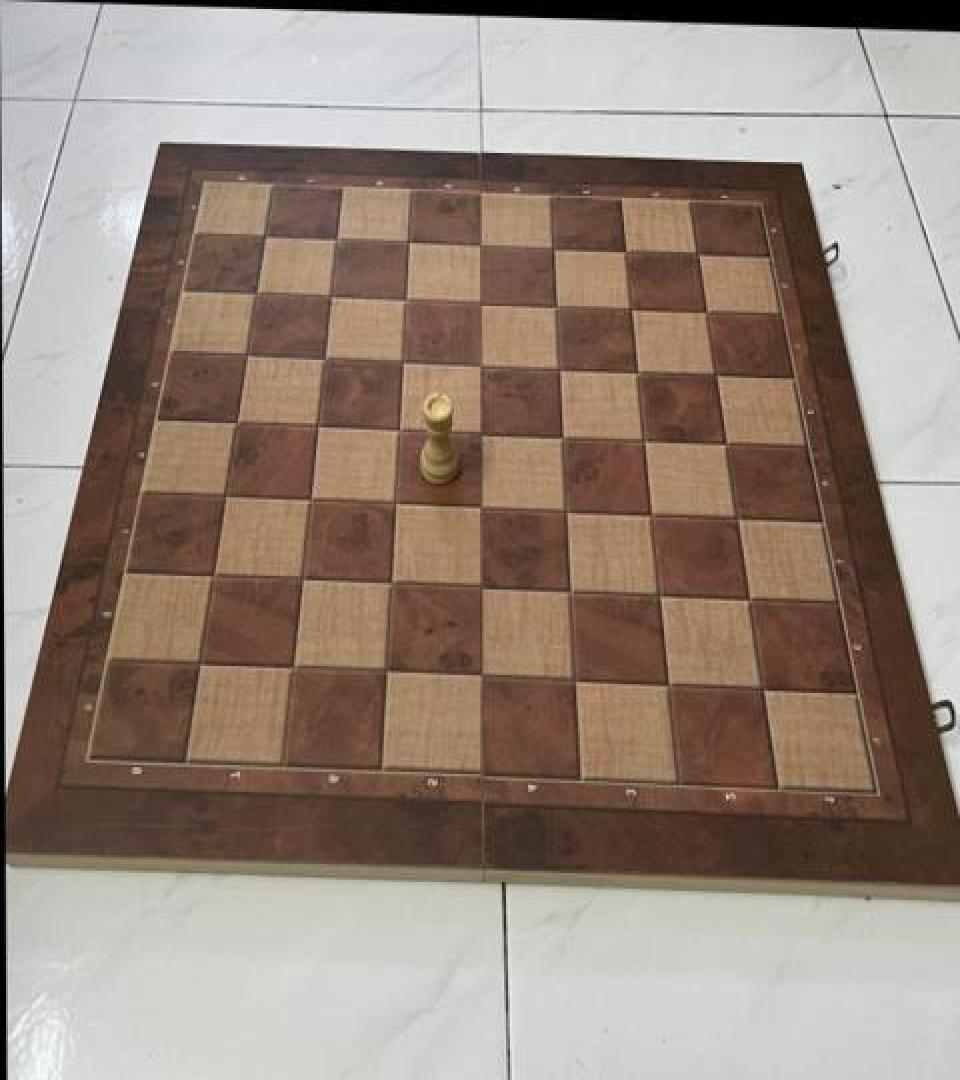xcorner: (556, 572, 588, 609), (733, 580, 765, 617), (375, 653, 407, 690), (561, 661, 593, 698), (251, 220, 283, 256), (323, 223, 355, 259), (395, 226, 427, 262), (467, 230, 499, 266), (539, 233, 571, 269), (611, 236, 643, 272), (682, 240, 714, 276), (242, 276, 274, 312), (318, 279, 350, 315), (393, 284, 425, 320), (468, 287, 500, 323), (542, 290, 574, 326), (617, 294, 649, 330), (691, 297, 723, 333), (233, 338, 265, 374), (311, 341, 343, 377), (390, 346, 422, 382), (468, 349, 500, 385), (545, 352, 577, 388), (623, 356, 655, 392), (700, 359, 732, 395), (223, 405, 255, 441), (305, 408, 337, 444), (386, 412, 418, 448), (468, 415, 500, 451), (549, 420, 581, 456), (629, 423, 661, 459), (710, 426, 742, 462), (212, 478, 244, 514), (298, 482, 330, 518), (383, 485, 415, 521), (468, 490, 500, 526), (552, 493, 584, 529), (637, 496, 669, 532), (721, 500, 753, 536), (200, 558, 232, 594), (290, 562, 322, 598), (379, 566, 411, 602), (468, 569, 500, 605), (645, 576, 677, 612), (187, 647, 219, 683), (281, 650, 313, 686), (468, 657, 500, 693), (654, 665, 686, 701), (746, 668, 778, 704)
